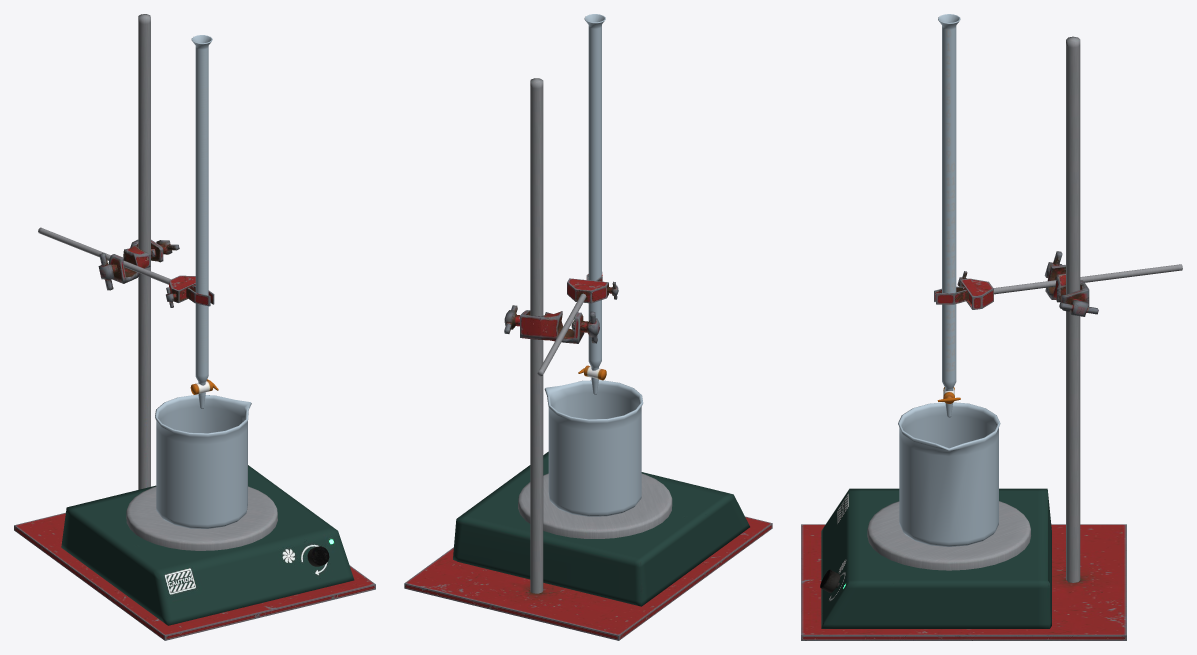
Rendered from Titration.fbx.
The picture shows the model from 3 angles, left to right: view 1: azimuth 30°, elevation 25°; view 2: azimuth 150°, elevation 25°; view 3: azimuth 270°, elevation 25°; orthographic projection. The views are drawn at different scales.
Parts seen in each view (by area): view 1: Agitateur_magnetique.001, Distillation_support_gauche.002, Becher_low.001, Burette_25.001; view 2: Agitateur_magnetique.001, Distillation_support_gauche.002, Becher_low.001, Burette_25.001; view 3: Agitateur_magnetique.001, Distillation_support_gauche.002, Becher_low.001, Burette_25.001.
Boxes of the visible parts, left/top/right/bottom form: Agitateur_magnetique.001: left=61, top=465, right=354, bottom=625; Distillation_support_gauche.002: left=14, top=14, right=375, bottom=640; Becher_low.001: left=155, top=394, right=251, bottom=528; Burette_25.001: left=190, top=35, right=218, bottom=408; Agitateur_magnetique.001: left=453, top=451, right=749, bottom=606; Distillation_support_gauche.002: left=404, top=78, right=772, bottom=640; Becher_low.001: left=544, top=380, right=643, bottom=516; Burette_25.001: left=578, top=14, right=606, bottom=394; Agitateur_magnetique.001: left=820, top=488, right=1051, bottom=628; Distillation_support_gauche.002: left=801, top=36, right=1182, bottom=640; Becher_low.001: left=898, top=402, right=1000, bottom=546; Burette_25.001: left=937, top=14, right=960, bottom=417.
Size of the model in its own units: 29.93 by 71.34 by 43.51.
Materials: 2 (2 with a texture image).
